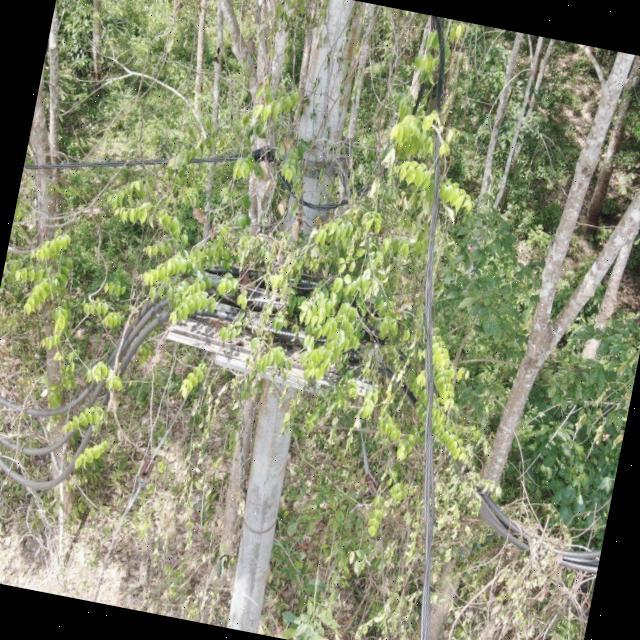critical vegetation: (149, 0, 476, 455)
